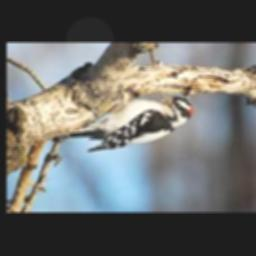Woodpecker: (52, 92, 192, 151)
